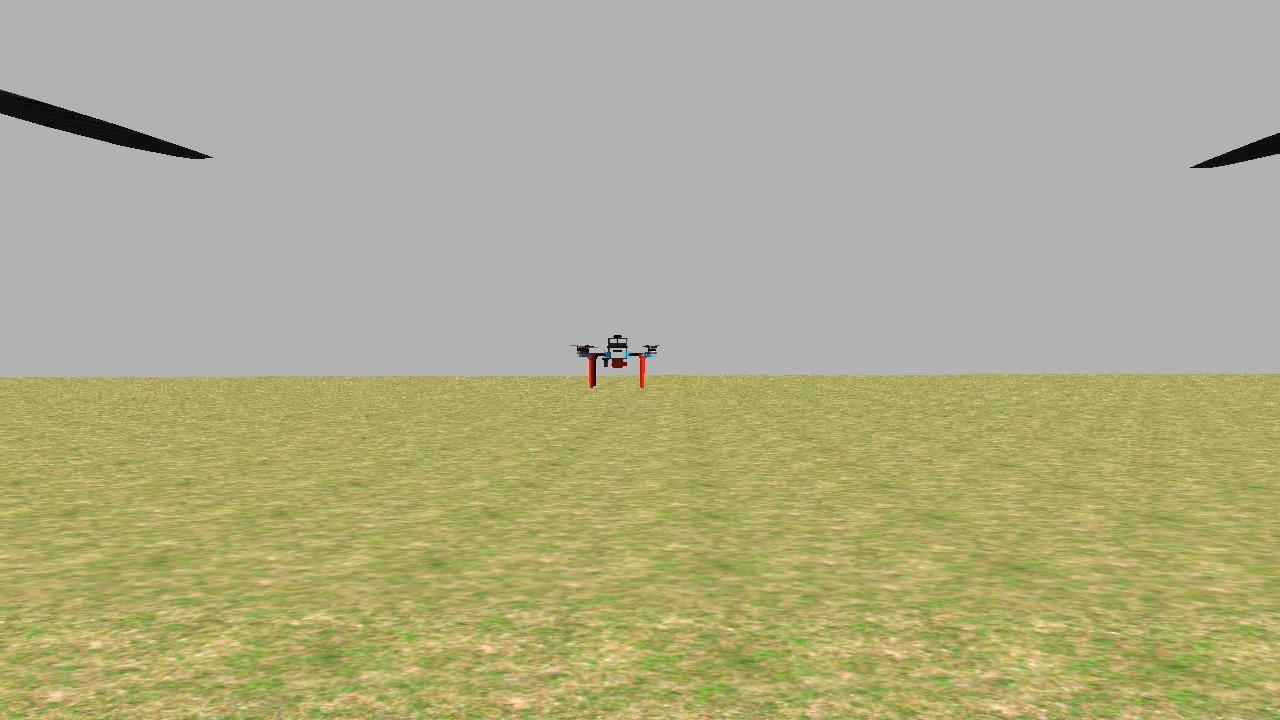UAV: (548, 328, 668, 390)
